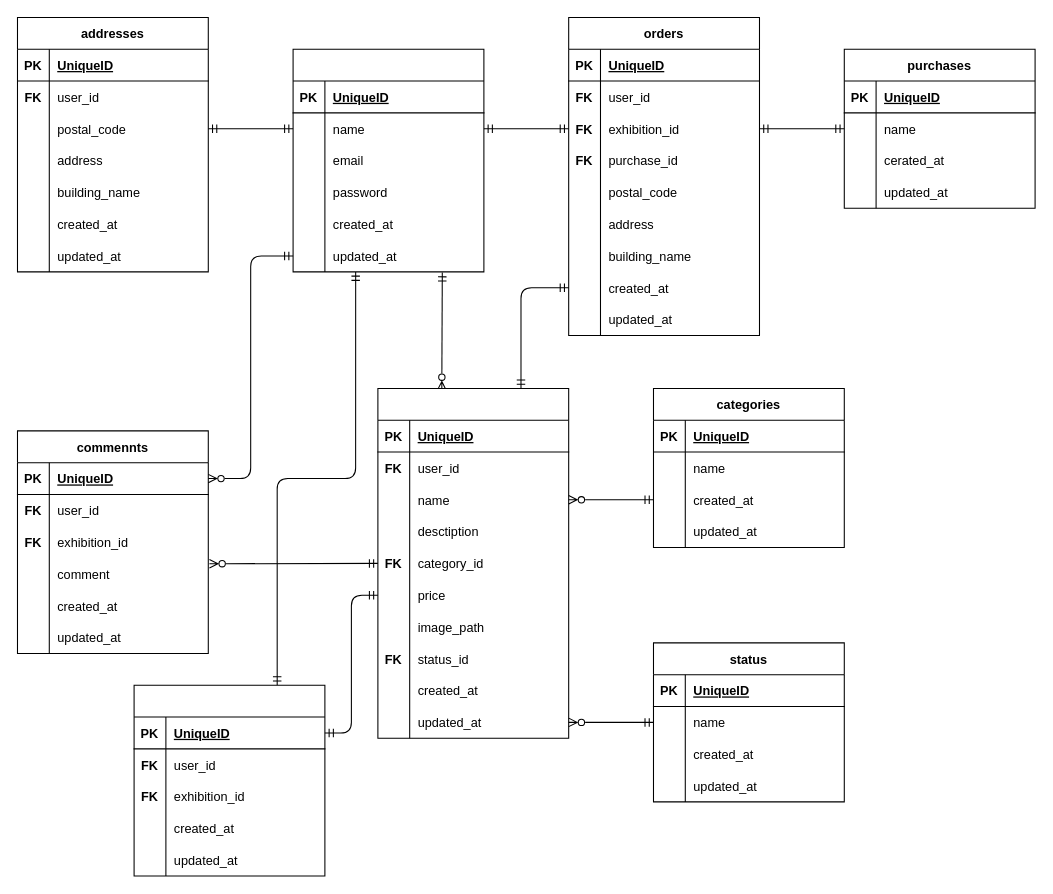
Some shapes in this 1053 by 894 pixel diagram are drawn without their labels. Here are the shapes that lost their labels. From the top down, the box of each, then its label:
(292, 48, 484, 272): users
(377, 387, 569, 738): exhibitions
(133, 684, 325, 876): favourites
